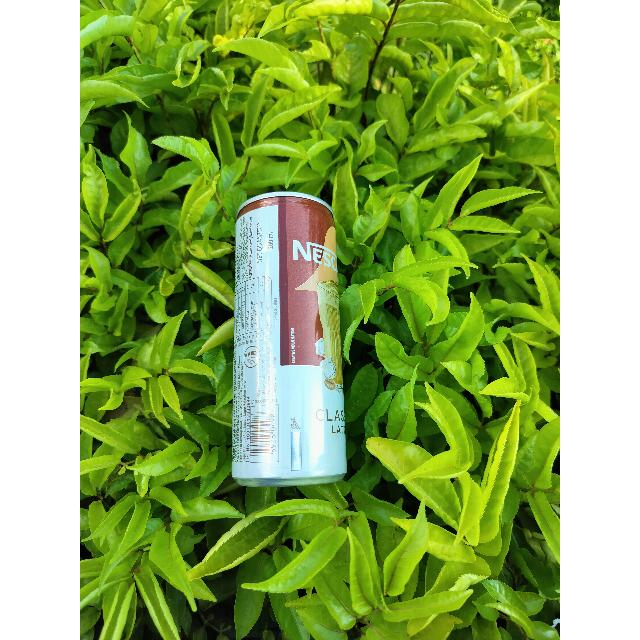Nescafe Classic Iced Latte: (226, 195, 354, 490)
